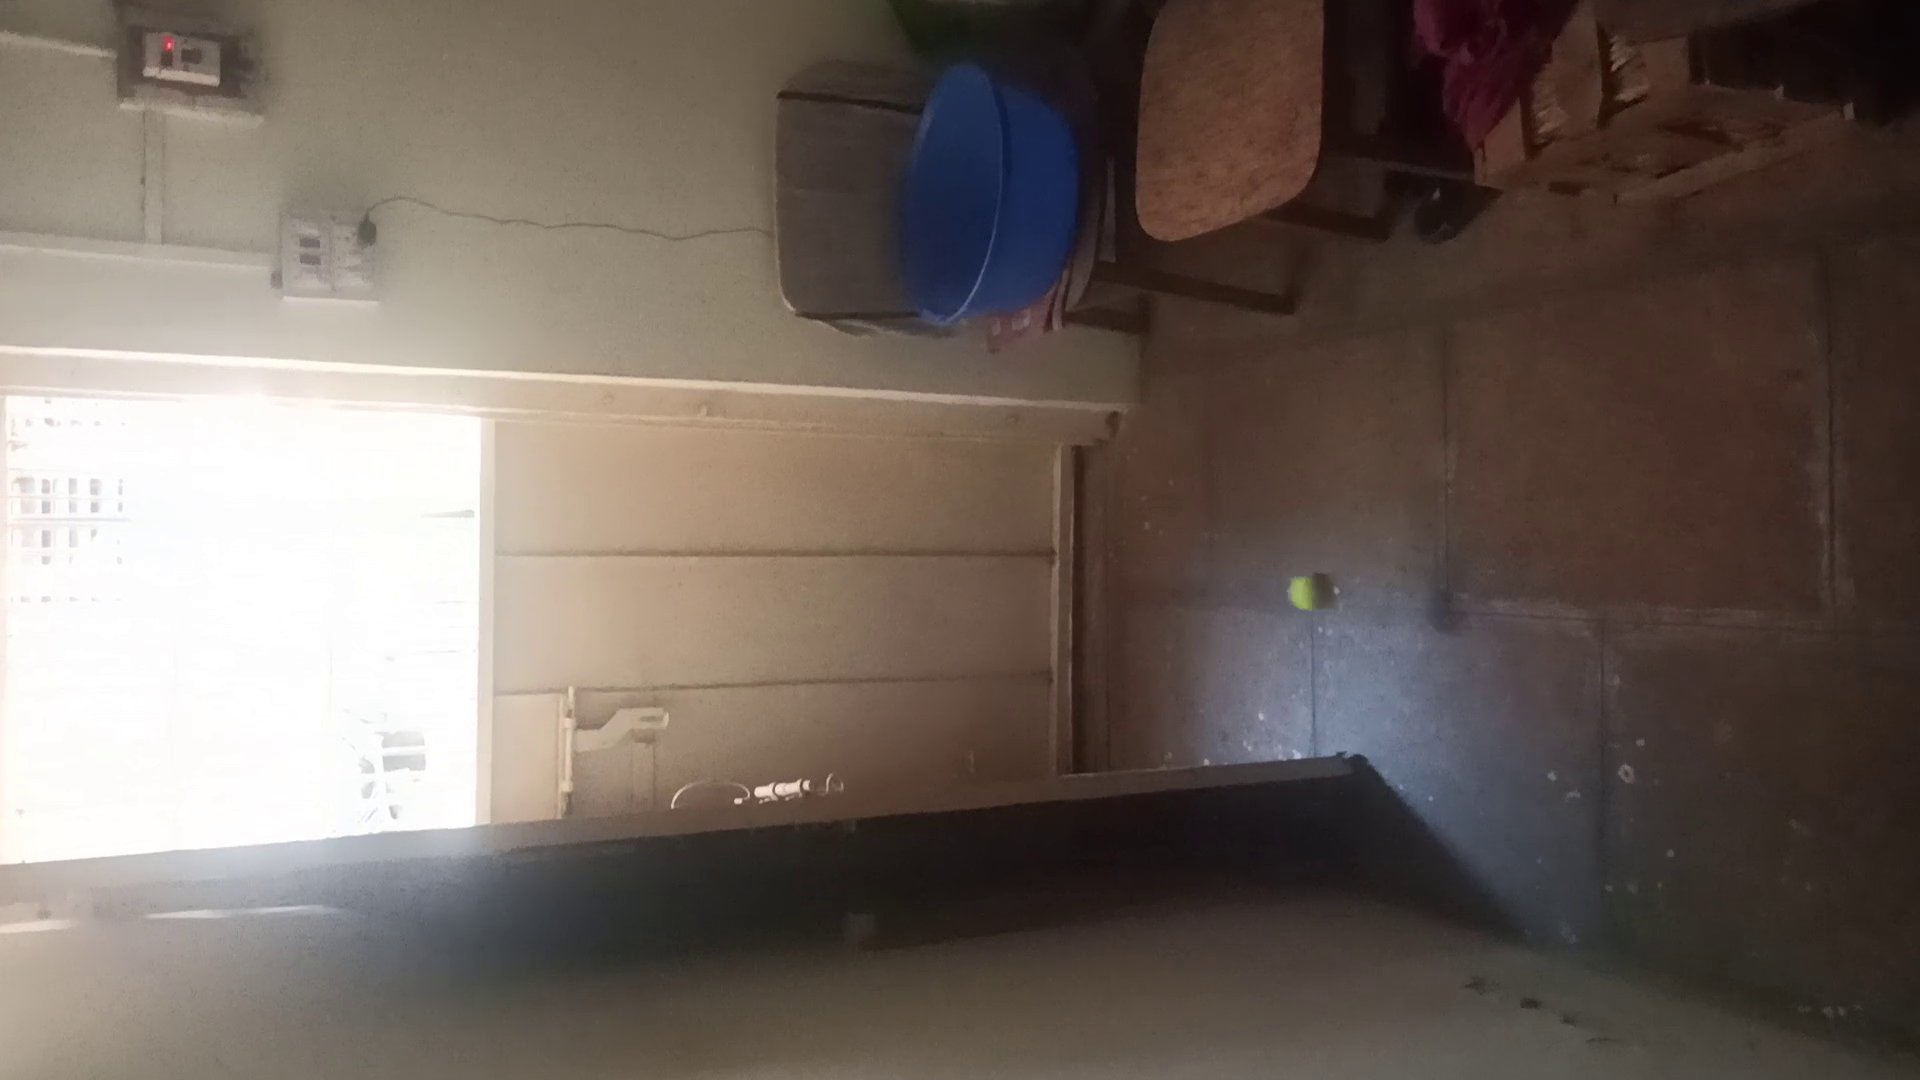Tennis-Ball: (1288, 571, 1332, 611)
